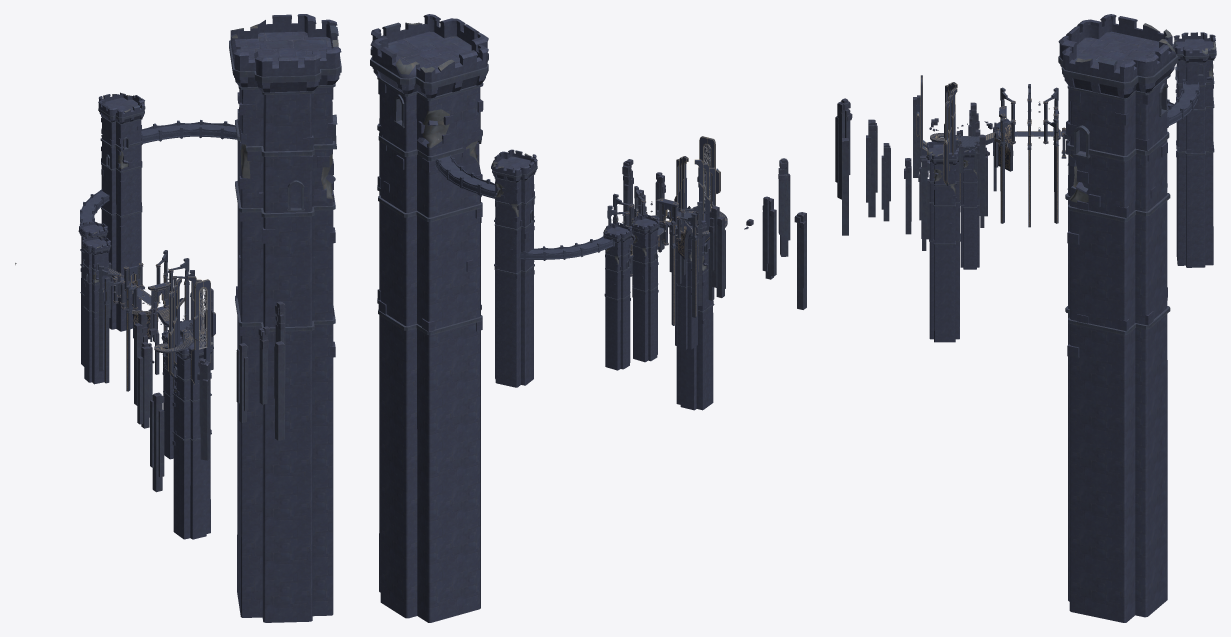
File: Level_Tower_01_NoCombine.fbx
The picture shows the model from 3 angles, left to right: view 1: azimuth 30°, elevation 25°; view 2: azimuth 150°, elevation 25°; view 3: azimuth 270°, elevation 25°; orthographic projection.
Visible parts, largest first — view 1: Level_Ec_Build_Tower_01_Vo (3), Level_Ec_Build_Tower_01_Vo (×2), Level_Ec_Build_Tower_01_Vo (1), Level_Ec_Prop_Pillars_23_Vo (×3), Level_Ec_Build_Road_02_Vo (×2), Level_Ec_Build_Tower_01_Vo (2), Level_Ec_Prop_Pillars_21_Vo (77), Level_Ec_Build_Tower_01_Vo (4), Level_Ec_Prop_Pillars_21_Vo (44), Level_Ec_Prop_Pillars_21_Vo (71), Level_Ec_Prop_Pillars_21_Vo (35), Level_Ec_Prop_Pillars_21_Vo (58) (+5 smaller); view 2: Level_Ec_Build_Tower_01_Vo (3), Level_Ec_Build_Tower_01_Vo (×2), Level_Ec_Build_Tower_01_Vo (4), Level_Ec_Build_Tower_01_Vo (1), Level_Ec_Build_Tower_01_Vo (2), Level_Ec_Build_Road_02_Vo, Level_Ec_Prop_Pillars_21_Vo (31), Level_Ec_Build_Road_02_Vo (2); view 3: Level_Ec_Build_Tower_01_Vo (3), Level_Ec_Build_Tower_01_Vo, Level_Ec_Build_Tower_01_Vo (1), Level_Ec_Build_Tower_01_Vo (2), Level_Ec_Prop_Pillars_23_Vo (×2), Level_Ec_Prop_Pillars_21_Vo (77), Level_Ec_Prop_Pillars_21_Vo (45), Level_Ec_Prop_Pillars_21_Vo (50), Level_Ec_Prop_Pillars_21_Vo (44), Level_Ec_Build_Road_02_Vo.
Part boxes in pixels (x1,y1,x2,y2): Level_Ec_Build_Tower_01_Vo (3): (229,14,341,622); Level_Ec_Build_Tower_01_Vo (×2): (82,92,145,384); Level_Ec_Build_Tower_01_Vo (1): (172,334,213,539); Level_Ec_Prop_Pillars_23_Vo (×3): (98,266,136,391); Level_Ec_Build_Road_02_Vo (×2): (141,120,237,144); Level_Ec_Build_Tower_01_Vo (2): (161,330,182,459); Level_Ec_Prop_Pillars_21_Vo (77): (275,341,284,440); Level_Ec_Build_Tower_01_Vo (4): (78,221,108,366); Level_Ec_Prop_Pillars_21_Vo (44): (152,392,162,492); Level_Ec_Prop_Pillars_21_Vo (71): (200,362,210,460); Level_Ec_Prop_Pillars_21_Vo (35): (141,346,149,428); Level_Ec_Prop_Pillars_21_Vo (58): (259,330,267,404); Level_Ec_Build_Tower_01_Vo (3): (370,14,488,622); Level_Ec_Build_Tower_01_Vo (×2): (491,149,659,387); Level_Ec_Build_Tower_01_Vo (4): (603,222,632,370); Level_Ec_Build_Tower_01_Vo (1): (676,208,714,410); Level_Ec_Build_Tower_01_Vo (2): (675,222,698,349); Level_Ec_Build_Road_02_Vo: (453,172,495,198); Level_Ec_Prop_Pillars_21_Vo (31): (716,216,724,297); Level_Ec_Build_Road_02_Vo (2): (520,245,574,260); Level_Ec_Build_Tower_01_Vo (3): (1058,14,1178,622); Level_Ec_Build_Tower_01_Vo: (1173,32,1216,267); Level_Ec_Build_Tower_01_Vo (1): (926,141,960,342); Level_Ec_Build_Tower_01_Vo (2): (958,146,979,269); Level_Ec_Prop_Pillars_23_Vo (×2): (1000,118,1058,223); Level_Ec_Prop_Pillars_21_Vo (77): (842,138,848,235); Level_Ec_Prop_Pillars_21_Vo (45): (979,134,985,215); Level_Ec_Prop_Pillars_21_Vo (50): (921,158,927,238); Level_Ec_Prop_Pillars_21_Vo (44): (868,119,875,217); Level_Ec_Build_Road_02_Vo: (1174,79,1199,113).
Bounding box in the file's own units: 320 × 545 × 335.
14 materials, 14 textured.
